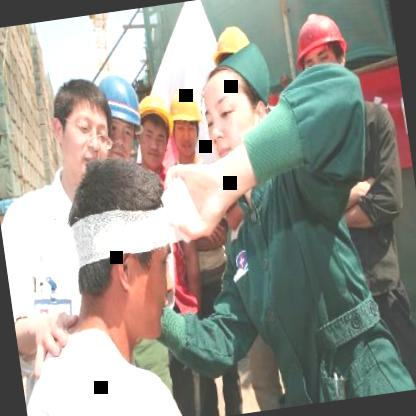head: (57, 152, 190, 349), (195, 46, 279, 166), (46, 74, 116, 187)
helmet: (90, 69, 148, 170), (287, 9, 350, 97), (129, 89, 174, 168), (166, 87, 207, 155), (204, 22, 254, 76)
